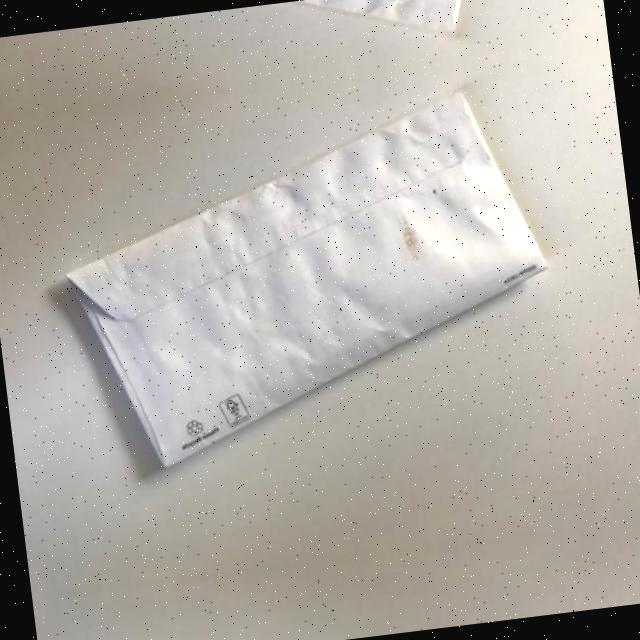paper: (51, 80, 566, 470), (37, 0, 518, 83)
